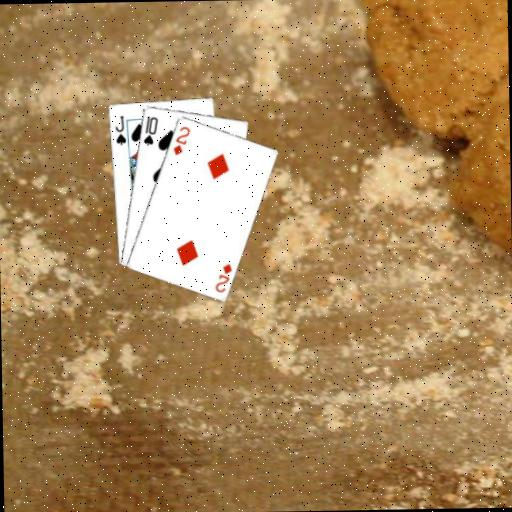10S: (140, 113, 160, 147)
2D: (211, 260, 234, 294), (170, 123, 192, 157)
JS: (112, 113, 128, 147)
